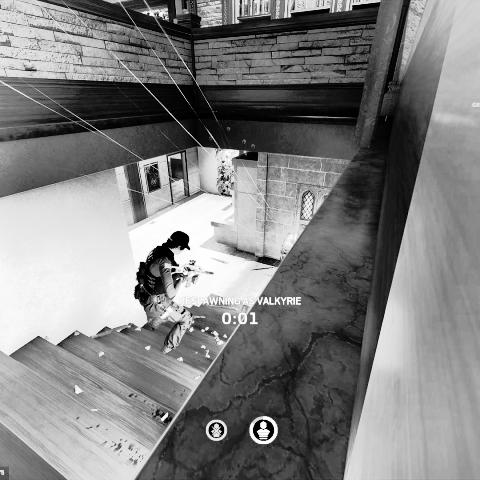Character: (132, 229, 215, 355)
Head: (168, 230, 193, 254)
